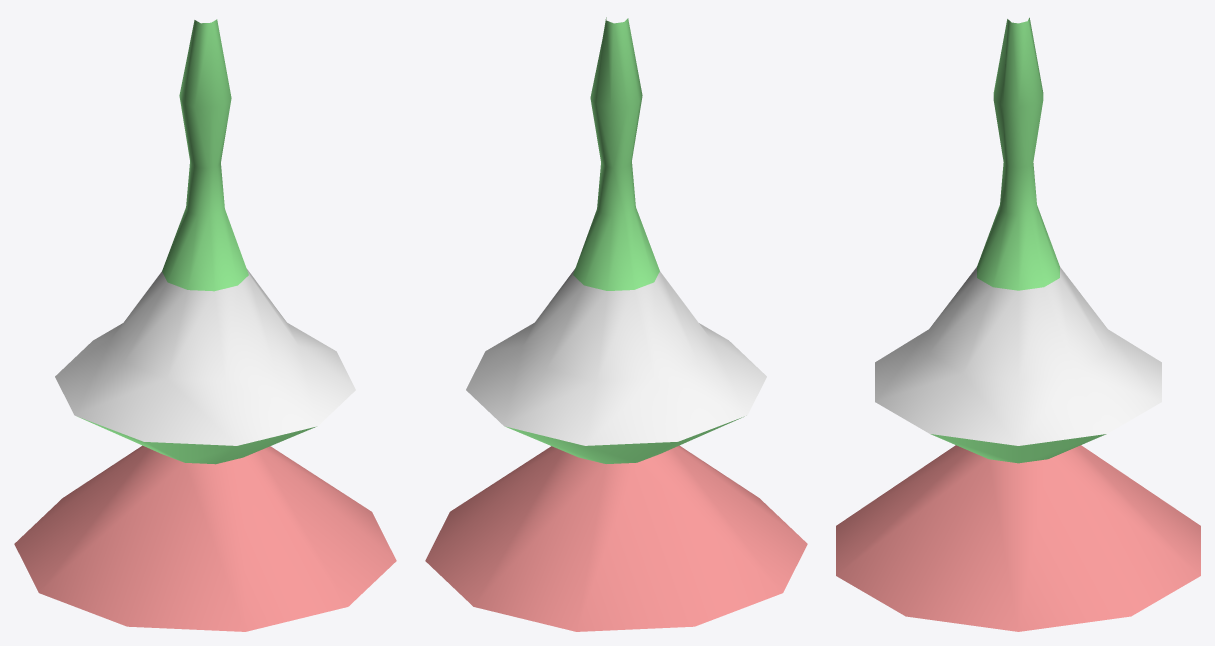
The model's file is mush_piece_06.gltf.
The picture shows the model from 3 angles, left to right: view 1: azimuth 30°, elevation 25°; view 2: azimuth 150°, elevation 25°; view 3: azimuth 270°, elevation 25°; orthographic projection.
Parts seen in each view (by area): view 1: mush_piece_06; view 2: mush_piece_06; view 3: mush_piece_06.
Part boxes in pixels (x1,y1,x2,y2): mush_piece_06: (14,19,396,631); mush_piece_06: (425,17,807,631); mush_piece_06: (836,17,1200,631).
Bounding box in the file's own units: 1.23 × 1.88 × 1.17.
